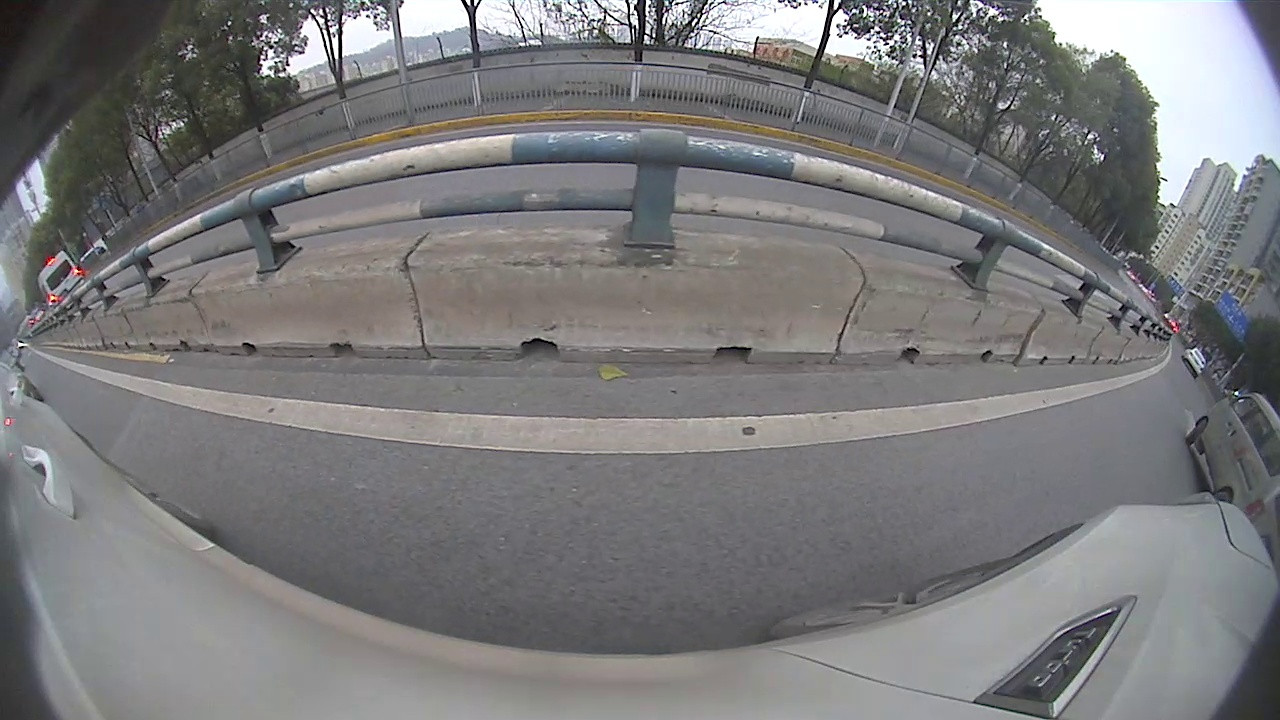car: (1182, 379, 1277, 538)
front: (1184, 418, 1208, 443)
